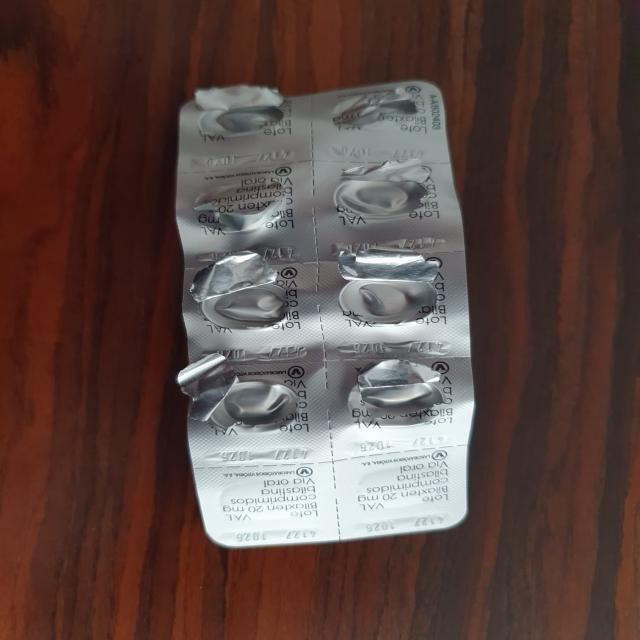Empty: (186, 354, 322, 443), (322, 246, 457, 327), (341, 343, 459, 435), (188, 254, 311, 338), (328, 157, 447, 233), (192, 165, 304, 243), (326, 89, 436, 146), (188, 101, 307, 150)
Pill: (343, 448, 459, 524), (210, 468, 320, 540)
